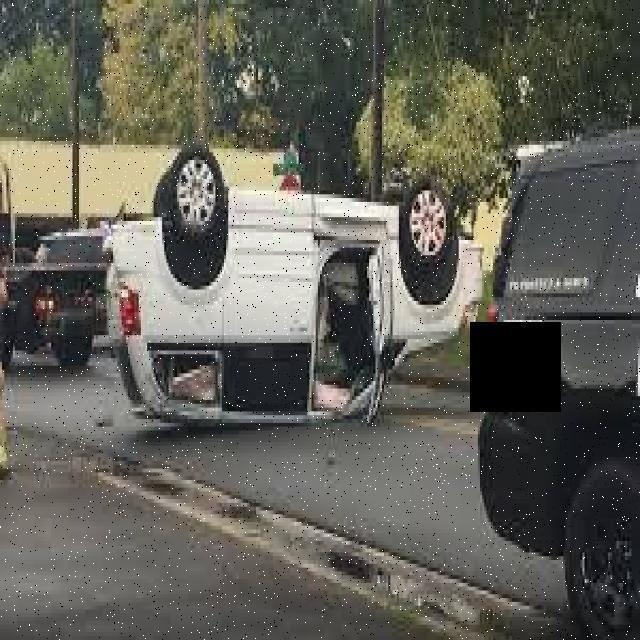single accident: (70, 147, 477, 438)
